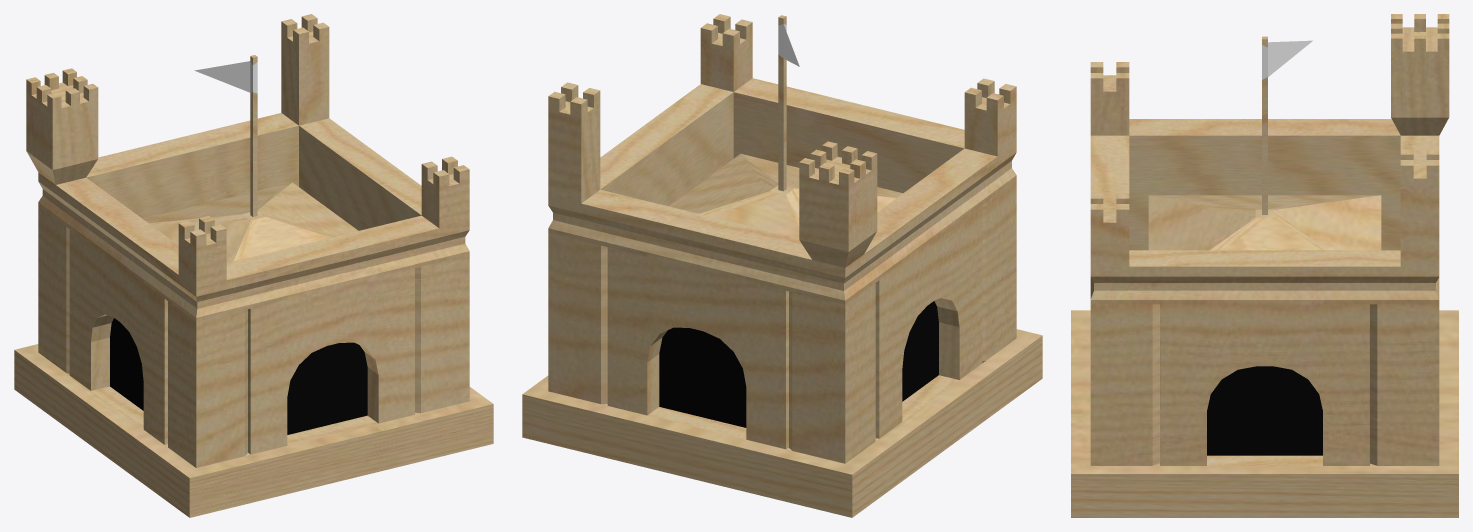
The model's file is fortenemy.glb.
3 renders of one model, left to right at view 1: azimuth 30°, elevation 25°; view 2: azimuth 150°, elevation 25°; view 3: azimuth 270°, elevation 25°, orthographic. The views are drawn at different scales.
Parts seen in each view (by area): view 1: fortunit; view 2: fortunit; view 3: fortunit.
Boxes of the visible parts, x1,y1,x2,y2 form: fortunit: [14, 14, 493, 517]; fortunit: [522, 14, 1042, 517]; fortunit: [1071, 14, 1458, 517].
Bounding box in the file's own units: 4 × 4.53 × 4.
3 materials, 1 textured.
